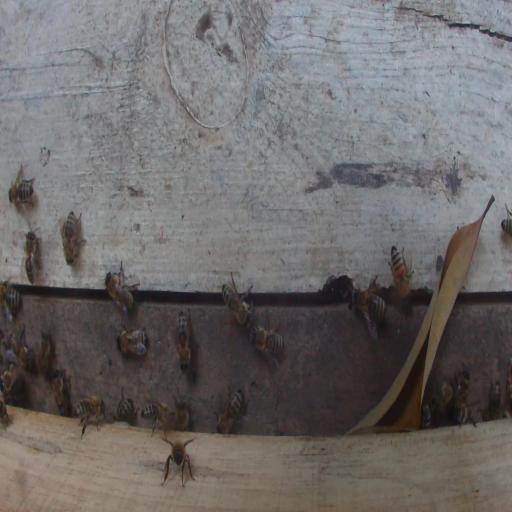bee: (351, 277, 387, 341), (161, 436, 195, 488), (221, 273, 253, 327), (58, 209, 87, 266), (215, 386, 246, 434), (389, 244, 413, 300), (75, 394, 105, 438), (104, 271, 134, 313), (12, 325, 34, 373), (116, 327, 149, 357), (250, 327, 284, 356), (51, 368, 71, 416), (176, 308, 191, 372), (0, 281, 22, 321), (35, 329, 54, 375), (25, 229, 39, 285), (141, 402, 174, 425), (114, 388, 135, 423), (8, 181, 35, 204), (454, 368, 470, 406), (1, 363, 17, 401), (453, 404, 477, 427), (174, 397, 190, 431), (488, 381, 501, 418), (440, 377, 453, 413), (420, 398, 435, 428), (500, 202, 512, 238), (25, 244, 35, 284), (165, 434, 166, 435)
